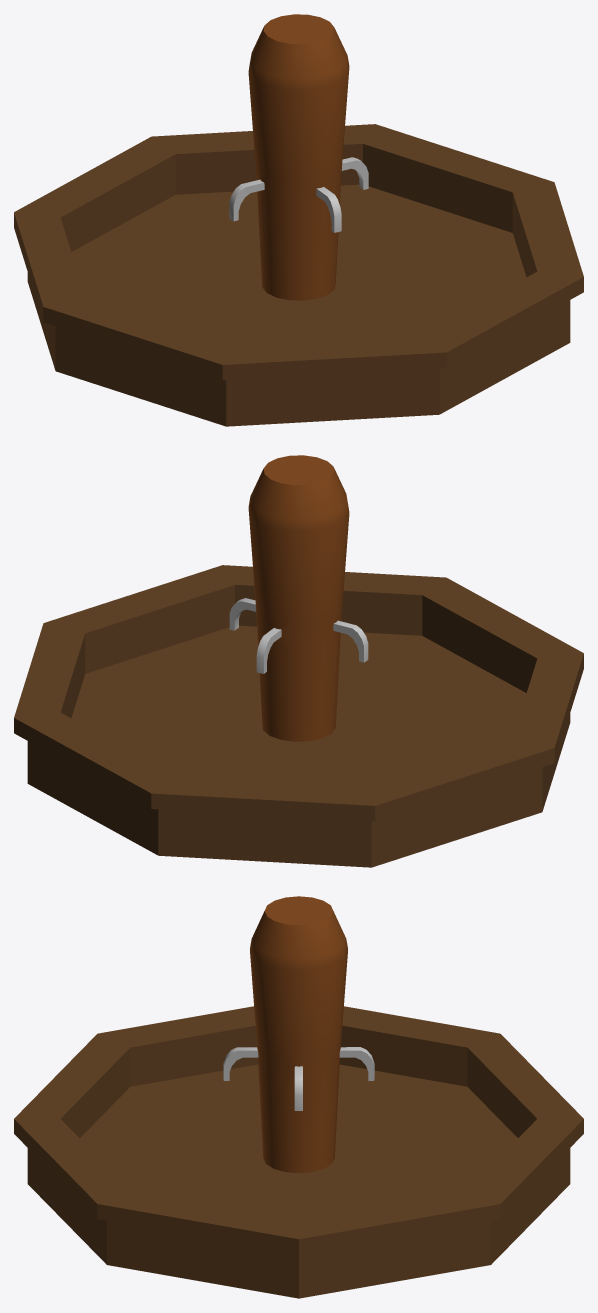
Rendered from fontein.fbx.
3 renders of one model, top to bottom at view 1: azimuth 30°, elevation 25°; view 2: azimuth 150°, elevation 25°; view 3: azimuth 270°, elevation 25°, orthographic. The views are drawn at different scales.
Parts seen in each view (by area): view 1: fontein; view 2: fontein; view 3: fontein.
Boxes of the visible parts, x1,y1,x2,y2 form: fontein: (14,14,583,426); fontein: (14,455,583,867); fontein: (14,896,583,1298).
Size of the model in its own units: 5.39 by 2.85 by 5.39.
